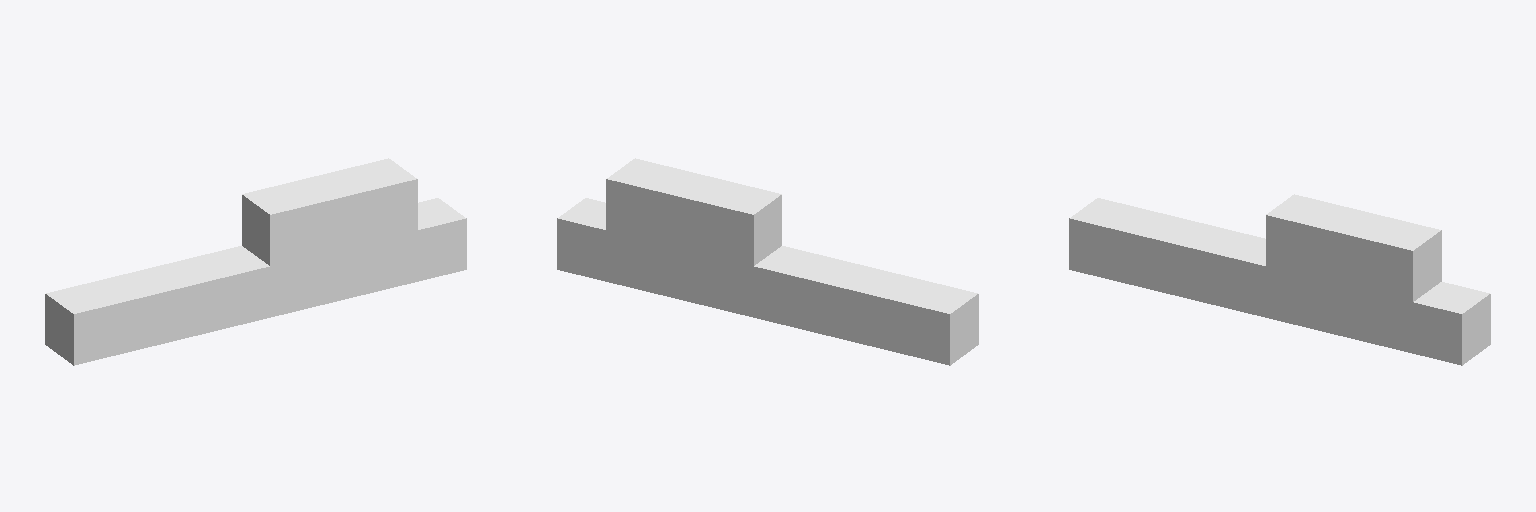
File: pen.obj
The picture shows the model from 3 angles: view 1: azimuth 30°, elevation 25°; view 2: azimuth 150°, elevation 25°; view 3: azimuth 330°, elevation 25°; orthographic projection.
Visible parts, largest first — view 1: object 1; view 2: object 1; view 3: object 1.
Boxes of the visible parts, <box> form: object 1: <box>45,158,466,365</box>; object 1: <box>557,158,978,365</box>; object 1: <box>1069,194,1490,365</box>.
Bounding box in the file's own units: 0.8 × 0.2 × 0.1.